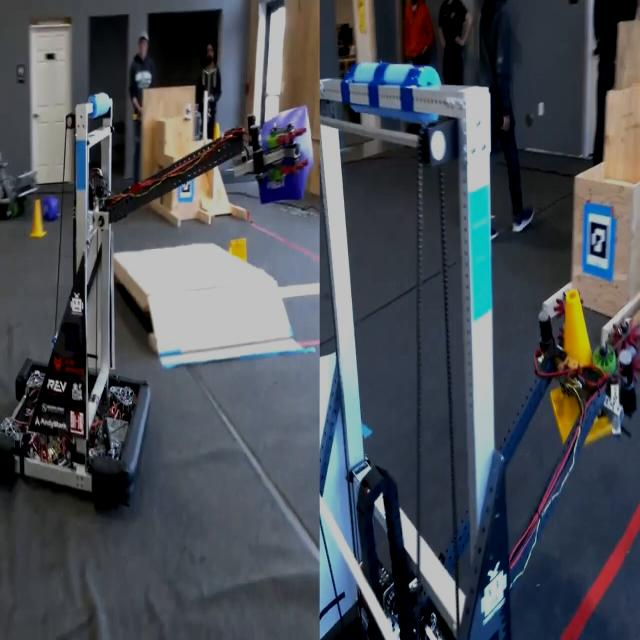frc_cone: (548, 282, 617, 452), (224, 233, 251, 266), (28, 197, 46, 243), (209, 112, 225, 154)
frc_cube: (253, 111, 311, 203), (40, 184, 65, 226)
